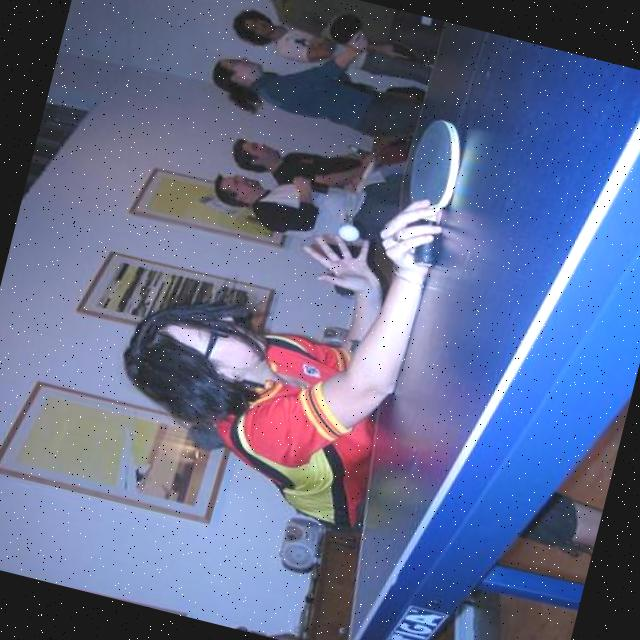ping-pong-ball: (334, 221, 360, 244)
